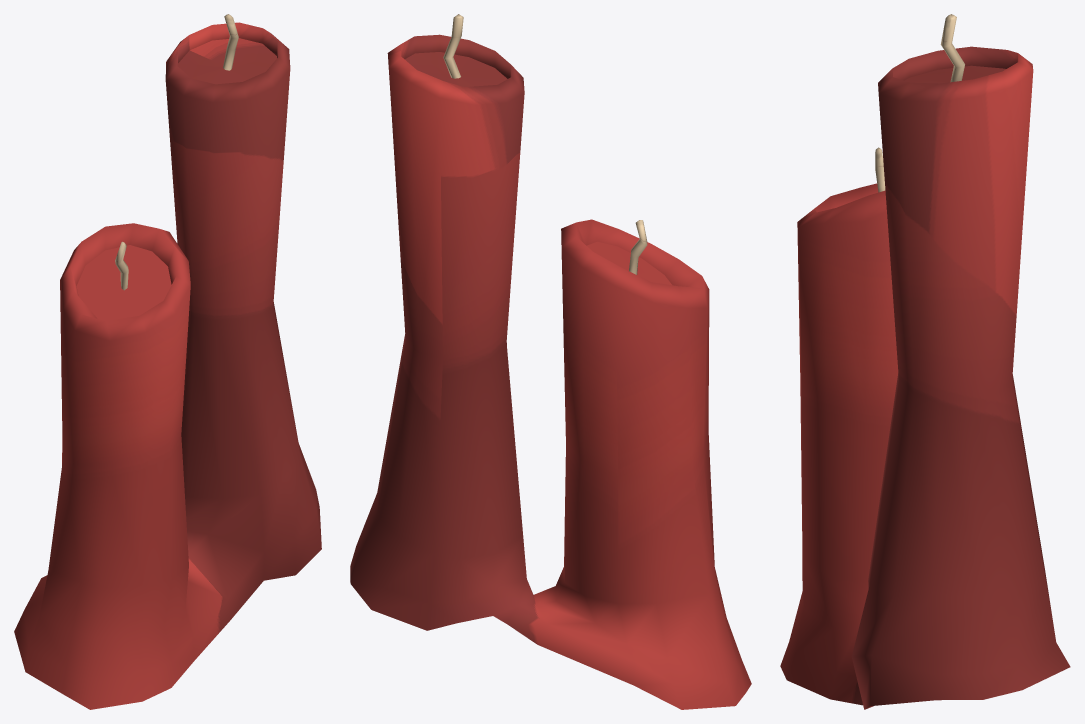
Rendered from 308_candle002_MD.fbx.
The picture shows the model from 3 angles, left to right: view 1: azimuth 30°, elevation 25°; view 2: azimuth 150°, elevation 25°; view 3: azimuth 270°, elevation 25°; orthographic projection. The views are drawn at different scales.
Visible parts, largest first — view 1: Object003; view 2: Object003; view 3: Object003.
Boxes of the visible parts, x1,y1,x2,y2 form: Object003: [14, 14, 321, 709]; Object003: [350, 14, 751, 709]; Object003: [780, 14, 1070, 709].
Bounding box in the file's own units: 15.26 × 28.09 × 9.88.
1 material, 1 textured.
